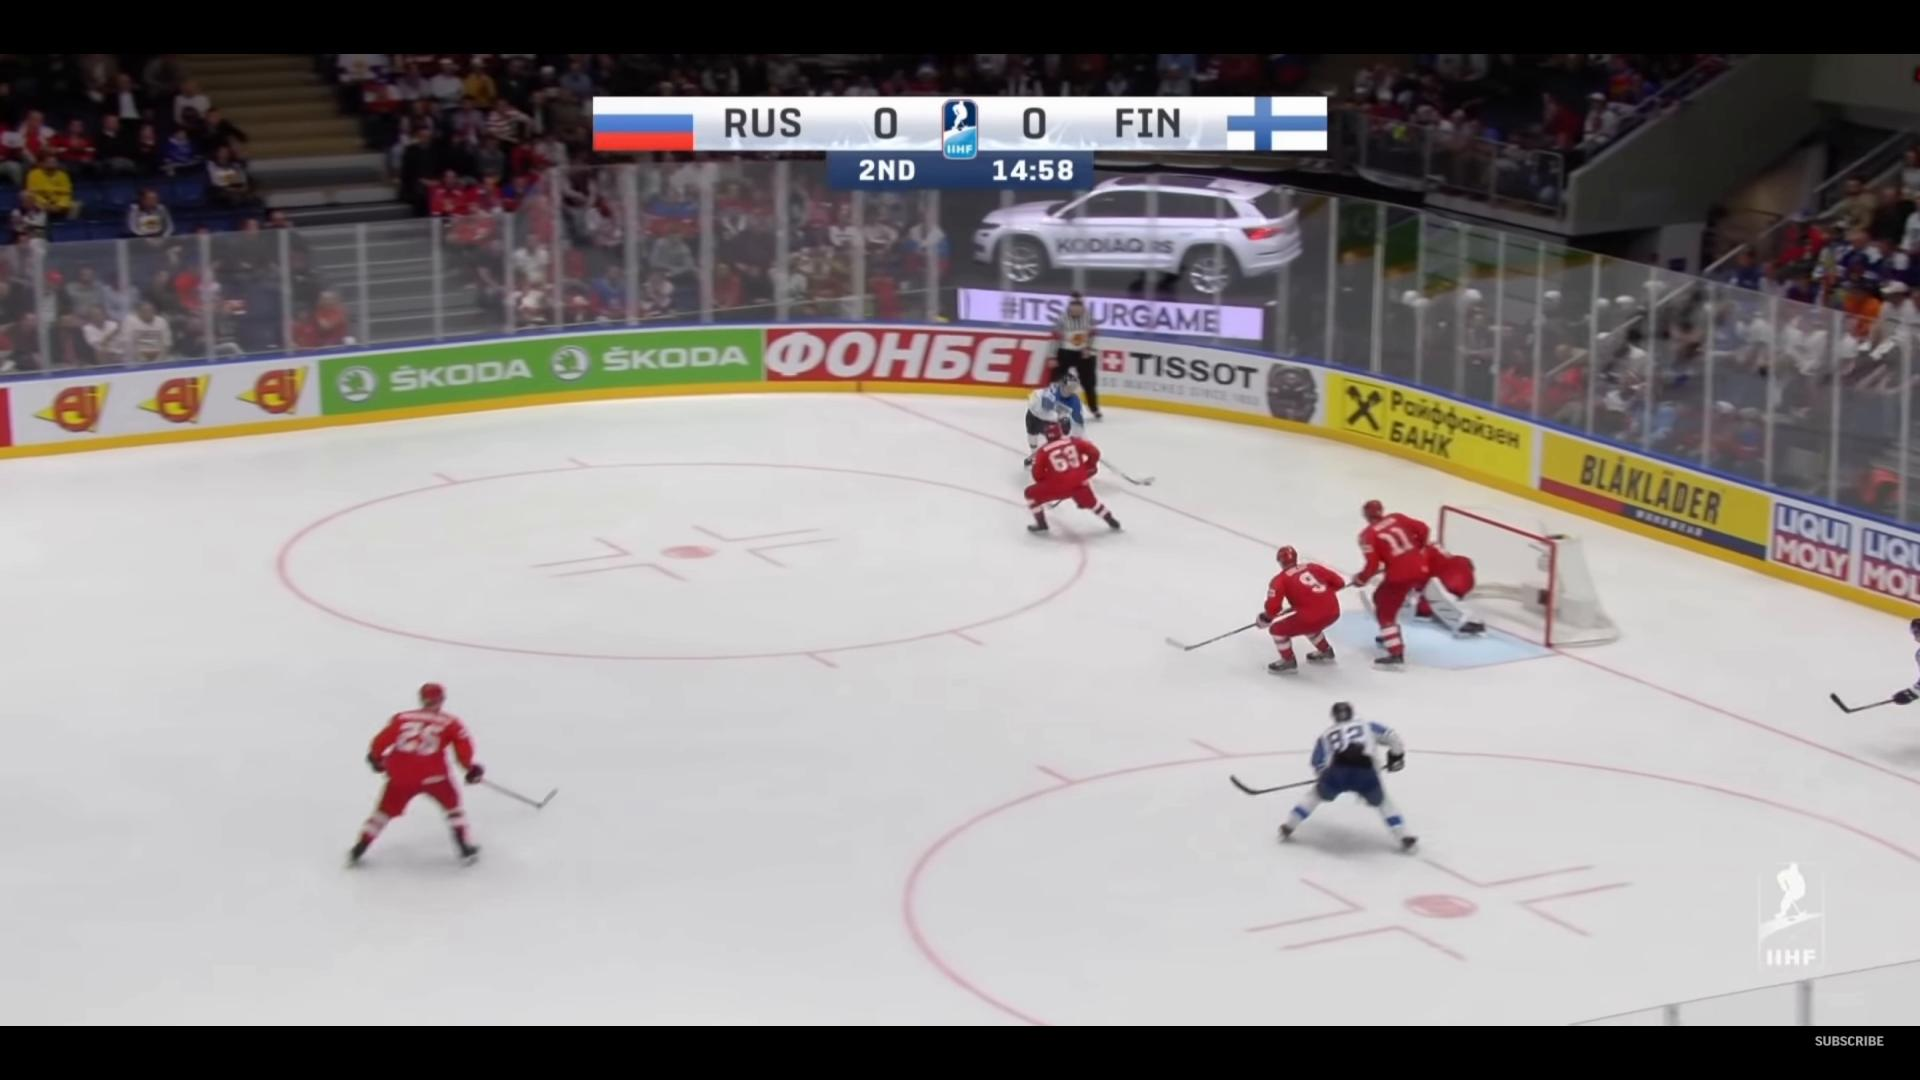puck: (1143, 480, 1151, 486)
